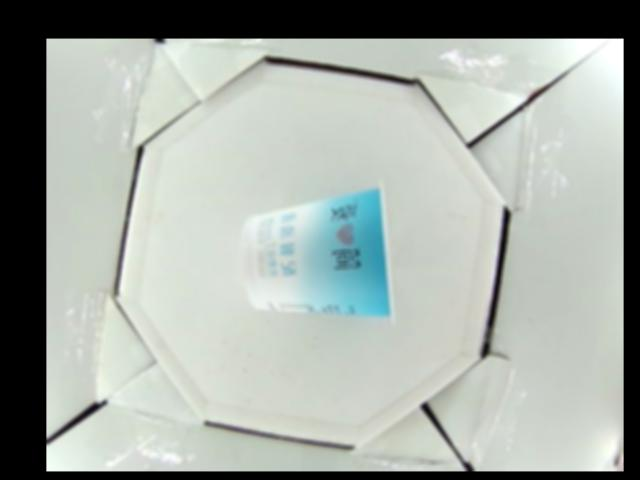Cup: (243, 181, 399, 320)
